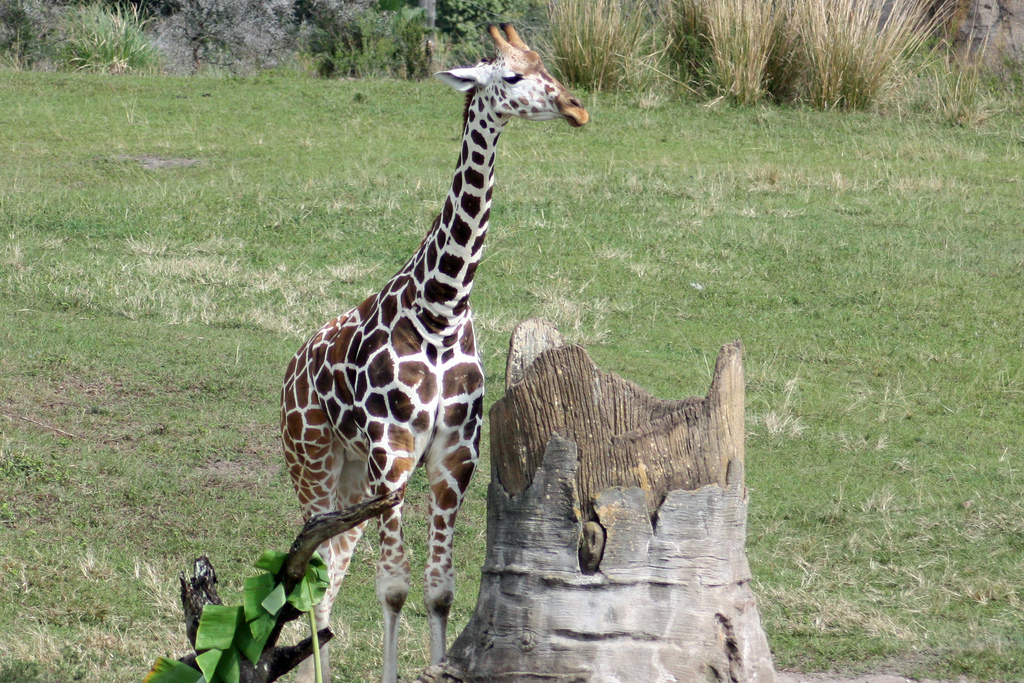giraffe: (261, 24, 601, 650)
